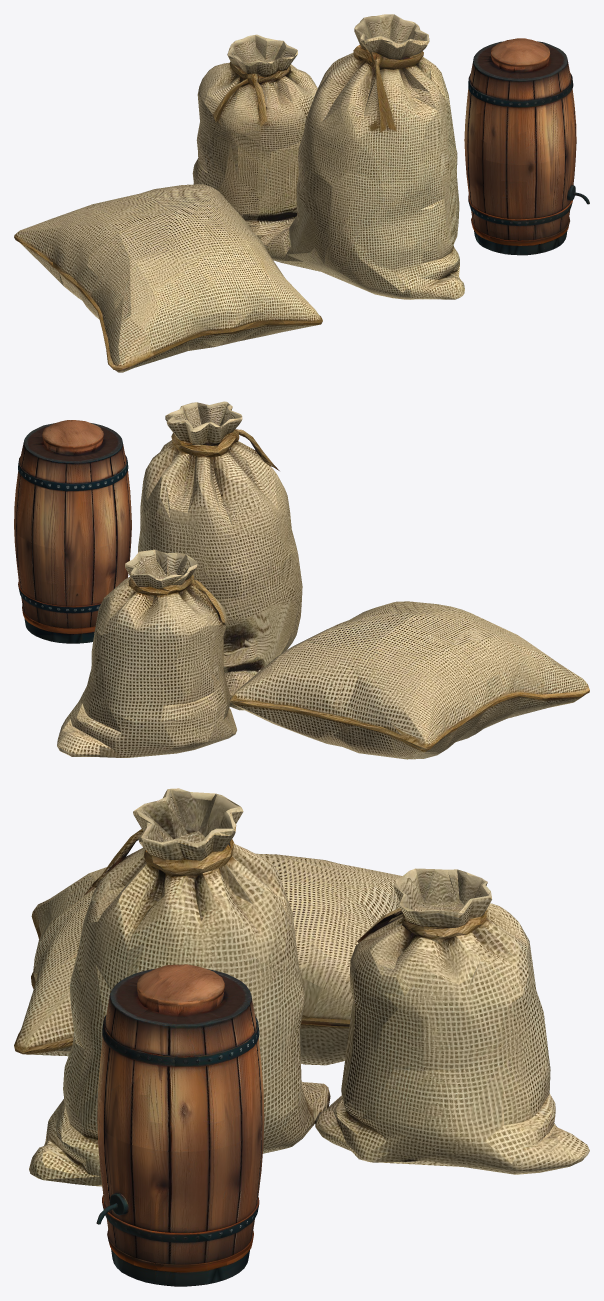
The model's file is sacks-barrel.glb.
The picture shows the model from 3 angles, top to bottom: view 1: azimuth 30°, elevation 25°; view 2: azimuth 150°, elevation 25°; view 3: azimuth 270°, elevation 25°; orthographic projection. The views are drawn at different scales.
Bounding box in the file's own units: 1.65 × 0.75 × 1.1.
2 materials, 2 textured.
